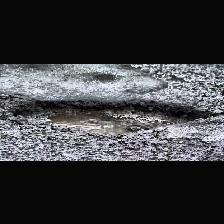pothole: (11, 96, 209, 138), (90, 70, 118, 82)
